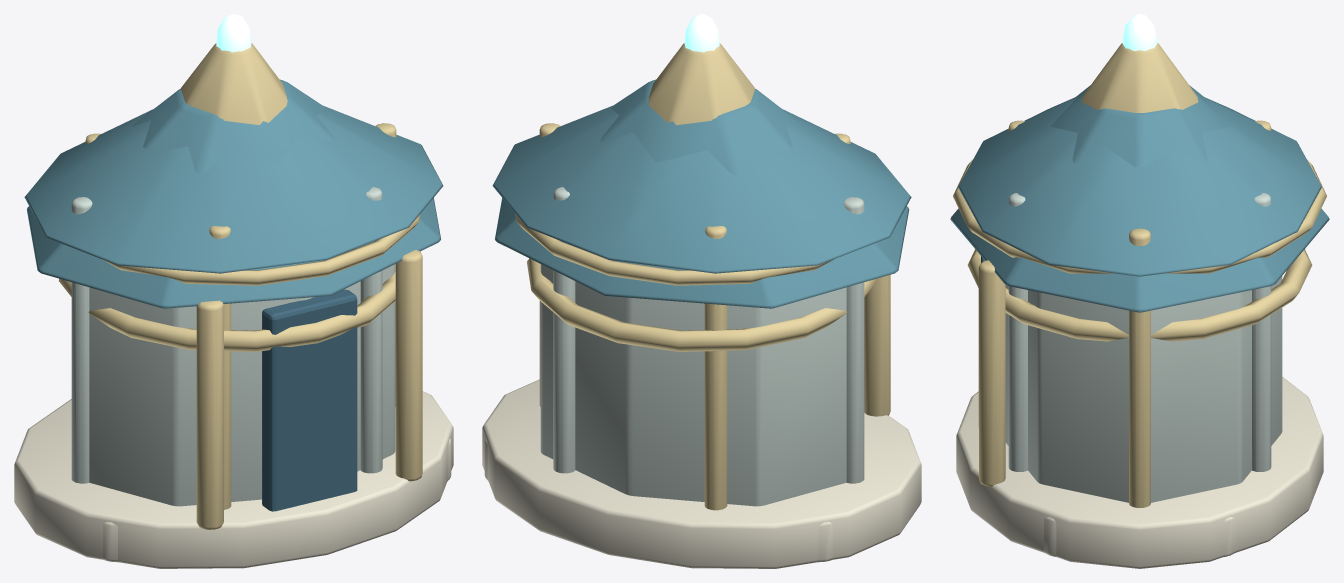
The model's file is skyreach-modular-architecture-authored-v1.glb.
The picture shows the model from 3 angles, left to right: view 1: azimuth 30°, elevation 25°; view 2: azimuth 150°, elevation 25°; view 3: azimuth 270°, elevation 25°; orthographic projection. The views are drawn at different scales.
Parts seen in each view (by area): view 1: GB_MODULE_LandmarkCanopy, GB_MODULE_LandmarkFoundation, GB_MODULE_BuildingWall, GB_MODULE_BuildingRoof, GB_MODULE_BuildingDoor, GB_MODULE_BuildingColumn_L, GB_MODULE_BuildingColumn_R, GB_MODULE_BuildingCrown, GB_MODULE_LandmarkRing, GB_MODULE_LandmarkPillar_6, GB_MODULE_LandmarkPillar_4, GB_MODULE_BuildingCornice (+3 smaller); view 2: GB_MODULE_BuildingWall, GB_MODULE_LandmarkCanopy, GB_MODULE_LandmarkFoundation, GB_MODULE_BuildingRoof, GB_MODULE_LandmarkRing, GB_MODULE_BuildingCrown, GB_MODULE_LandmarkPillar_3, GB_MODULE_LandmarkPillar_2, GB_MODULE_LandmarkPillar_4, GB_MODULE_BuildingCornice, GB_MODULE_BuildingColumn_L, GB_MODULE_BuildingBeacon (+1 smaller); view 3: GB_MODULE_LandmarkCanopy, GB_MODULE_BuildingWall, GB_MODULE_LandmarkFoundation, GB_MODULE_BuildingRoof, GB_MODULE_LandmarkRing, GB_MODULE_BuildingColumn_R, GB_MODULE_BuildingCrown, GB_MODULE_LandmarkPillar_1, GB_MODULE_LandmarkPillar_2, GB_MODULE_LandmarkPillar_6, GB_MODULE_BuildingCornice, GB_MODULE_BuildingBeacon (+1 smaller).
Boxes of the visible parts, left/top/right/bottom form: GB_MODULE_LandmarkCanopy: left=24, top=105, right=443, bottom=273; GB_MODULE_LandmarkFoundation: left=14, top=391, right=453, bottom=568; GB_MODULE_BuildingWall: left=89, top=264, right=395, bottom=506; GB_MODULE_BuildingRoof: left=26, top=79, right=440, bottom=308; GB_MODULE_BuildingDoor: left=262, top=289, right=357, bottom=511; GB_MODULE_BuildingColumn_L: left=196, top=300, right=223, bottom=529; GB_MODULE_BuildingColumn_R: left=395, top=250, right=422, bottom=481; GB_MODULE_BuildingCrown: left=180, top=43, right=287, bottom=125; GB_MODULE_LandmarkRing: left=59, top=264, right=395, bottom=351; GB_MODULE_LandmarkPillar_6: left=360, top=187, right=382, bottom=473; GB_MODULE_LandmarkPillar_4: left=71, top=197, right=92, bottom=483; GB_MODULE_BuildingCornice: left=102, top=214, right=420, bottom=285; GB_MODULE_BuildingWall: left=540, top=264, right=846, bottom=506; GB_MODULE_LandmarkCanopy: left=492, top=105, right=911, bottom=273; GB_MODULE_LandmarkFoundation: left=482, top=379, right=921, bottom=568; GB_MODULE_BuildingRoof: left=495, top=79, right=909, bottom=308; GB_MODULE_LandmarkRing: left=527, top=258, right=876, bottom=351; GB_MODULE_BuildingCrown: left=648, top=43, right=755, bottom=125; GB_MODULE_LandmarkPillar_3: left=704, top=226, right=727, bottom=510; GB_MODULE_LandmarkPillar_2: left=553, top=187, right=575, bottom=473; GB_MODULE_LandmarkPillar_4: left=843, top=197, right=864, bottom=483; GB_MODULE_BuildingCornice: left=515, top=214, right=833, bottom=285; GB_MODULE_BuildingColumn_L: left=864, top=274, right=890, bottom=416; GB_MODULE_BuildingBeacon: left=684, top=14, right=719, bottom=52; GB_MODULE_LandmarkCanopy: left=958, top=97, right=1321, bottom=276; GB_MODULE_BuildingWall: left=1005, top=276, right=1282, bottom=502; GB_MODULE_LandmarkFoundation: left=956, top=377, right=1323, bottom=568; GB_MODULE_BuildingRoof: left=950, top=85, right=1329, bottom=312; GB_MODULE_LandmarkRing: left=967, top=249, right=1312, bottom=341; GB_MODULE_BuildingColumn_R: left=978, top=260, right=1005, bottom=486; GB_MODULE_BuildingCrown: left=1081, top=43, right=1198, bottom=112; GB_MODULE_LandmarkPillar_1: left=1129, top=228, right=1150, bottom=507; GB_MODULE_LandmarkPillar_2: left=1252, top=193, right=1271, bottom=471; GB_MODULE_LandmarkPillar_6: left=1008, top=193, right=1027, bottom=471; GB_MODULE_BuildingCornice: left=953, top=159, right=1326, bottom=273; GB_MODULE_BuildingBeacon: left=1122, top=14, right=1157, bottom=50.
Bounding box in the file's own units: 1 × 1.14 × 0.8475.
